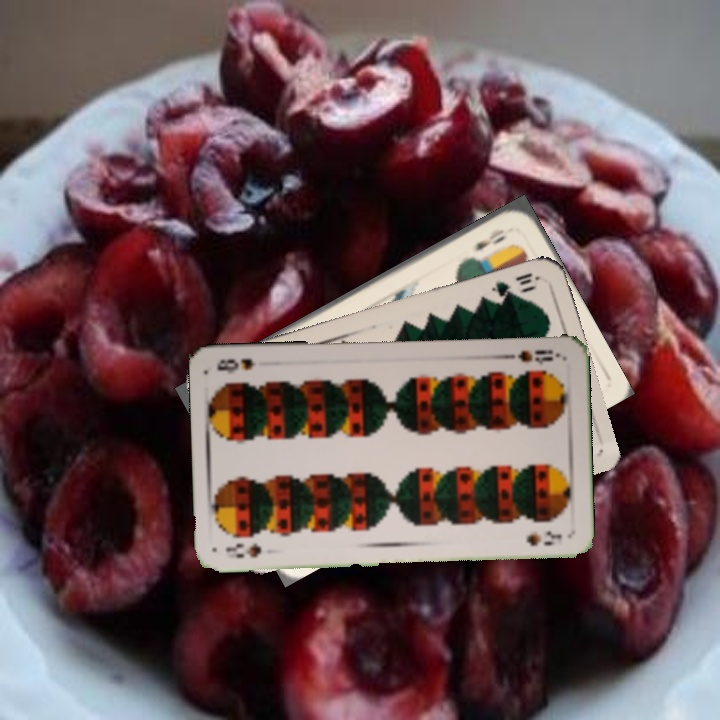EO: (471, 225, 510, 254)
G10: (487, 269, 542, 301)
S8: (503, 345, 563, 368), (222, 539, 263, 561)
